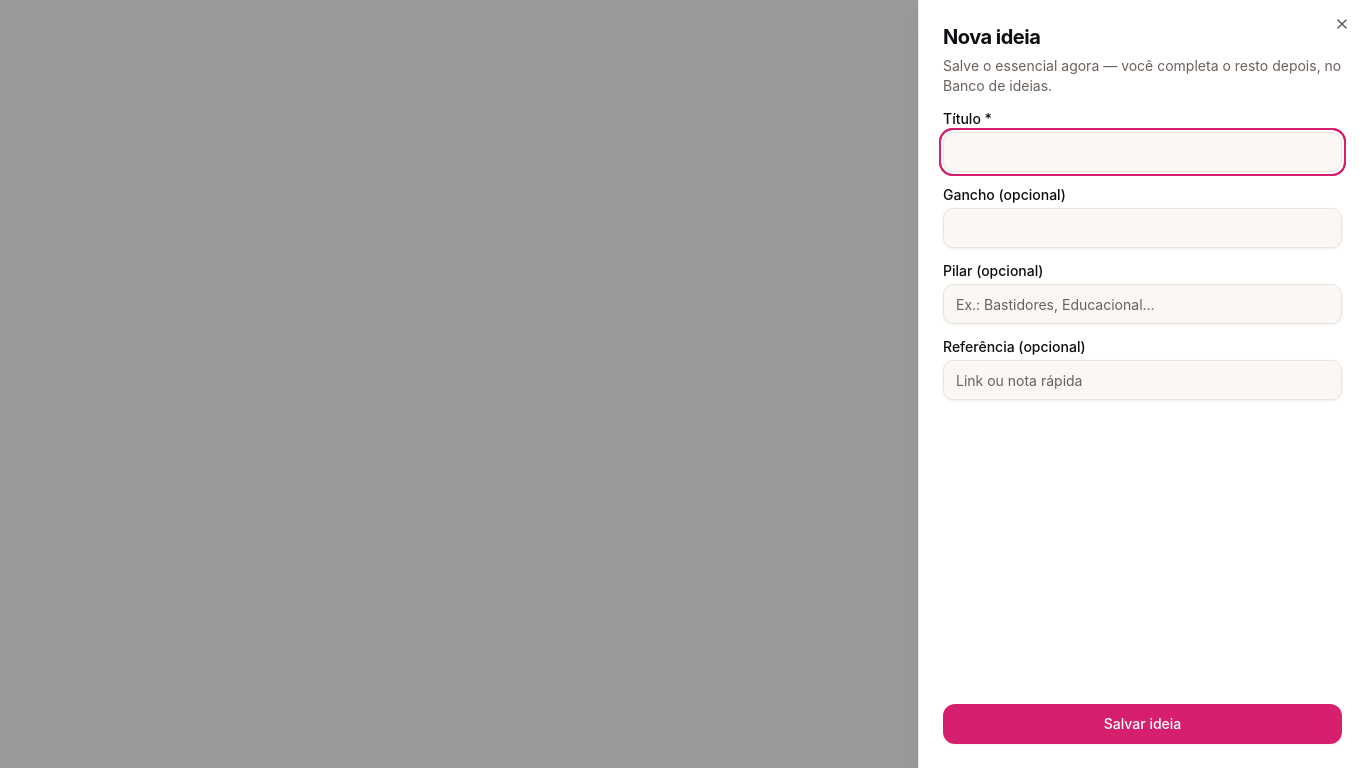
QuickCaptureDrawer › mostra o erro devolvido pela Server Action sem fechar o formulário
In the field labelled "Título *": (1142, 152) [943, 132, 1342, 172], type "Ideia qualquer"
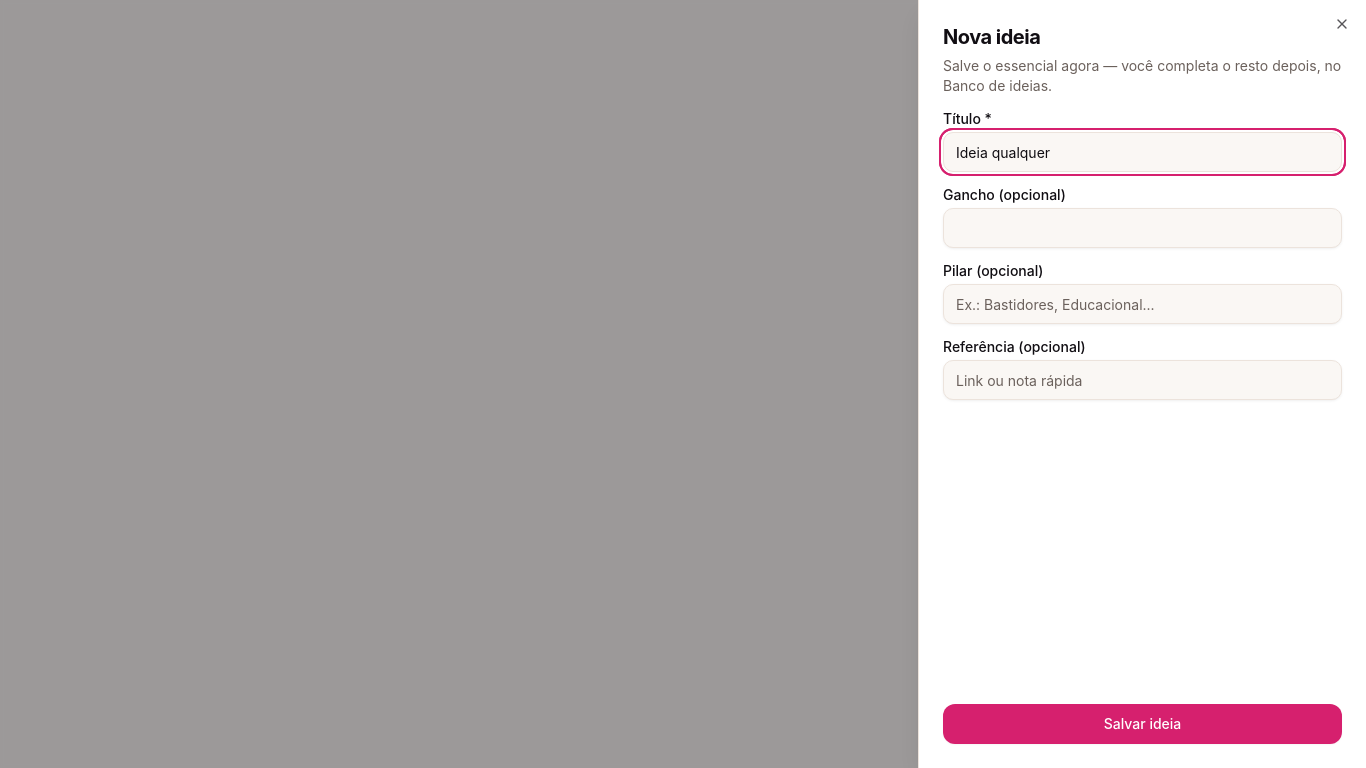
Click the button "Salvar ideia": (1142, 724) [943, 704, 1342, 744]
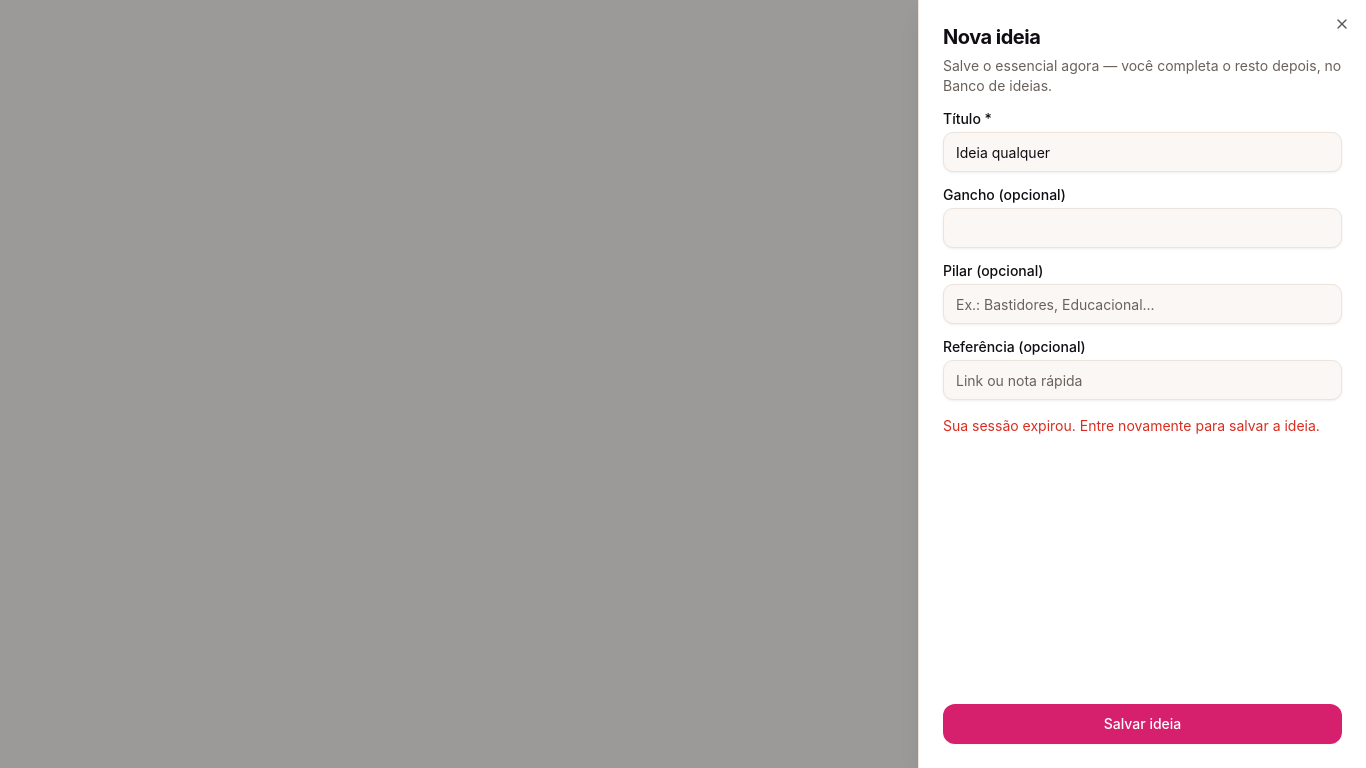
Now the text "Sua sessão expirou. Entre novamente para salvar a ideia." is shown, box [943, 416, 1342, 436]
